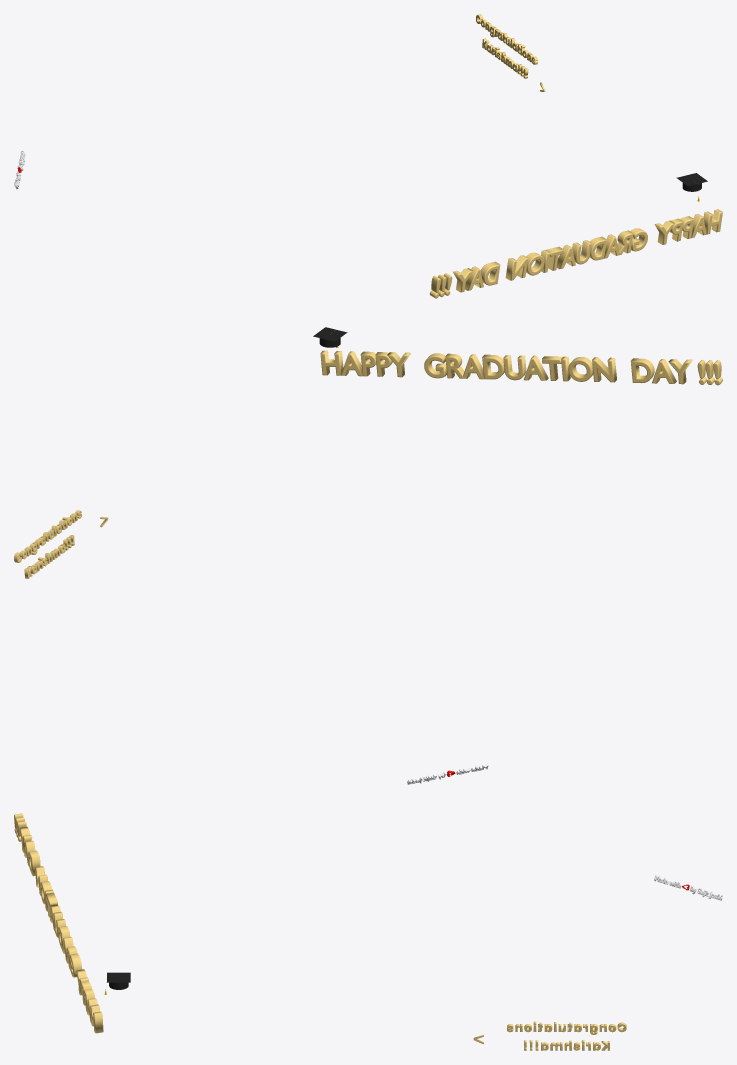
File: wishesScene.gltf
3 views of the same model, one above another, from view 1: azimuth 30°, elevation 25°; view 2: azimuth 150°, elevation 25°; view 3: azimuth 270°, elevation 25° (orthographic). The views are drawn at different scales.
Visible parts, largest first — view 1: Text.004, Text.002; view 2: Text.004, Text.002; view 3: Text.004, Text.002, GradHat.
Boxes of the visible parts, x1,y1,x2,y2 form: Text.004: (429,209,722,298); Text.002: (476,14,537,78); Text.004: (320,350,722,385); Text.002: (14,510,82,578); Text.004: (14,813,103,1033); Text.002: (507,1021,626,1050); GradHat: (104,972,130,994).
Bounding box in the file's own units: 24.71 × 6.24 × 33.38.
